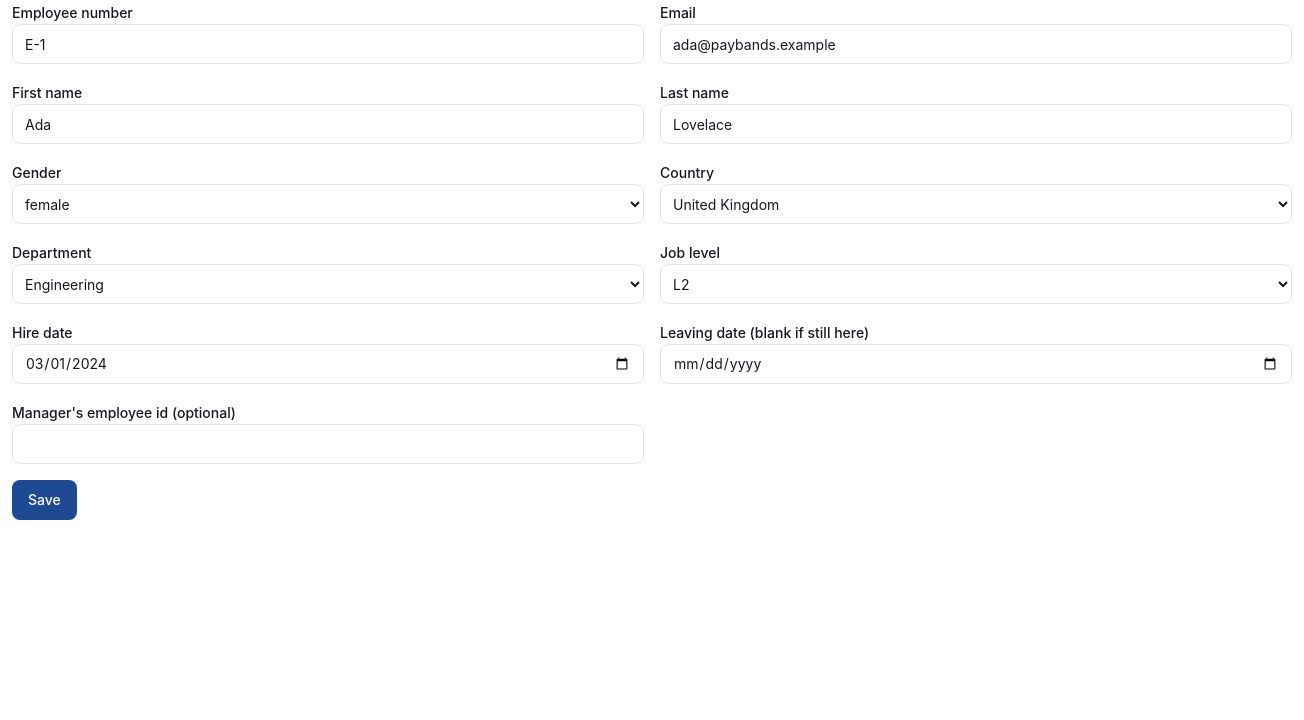
Test case: EmployeeForm › refuses an edit that changed nothing
Click the button "Save". click: x=44, y=500
box: [12,480,77,520]
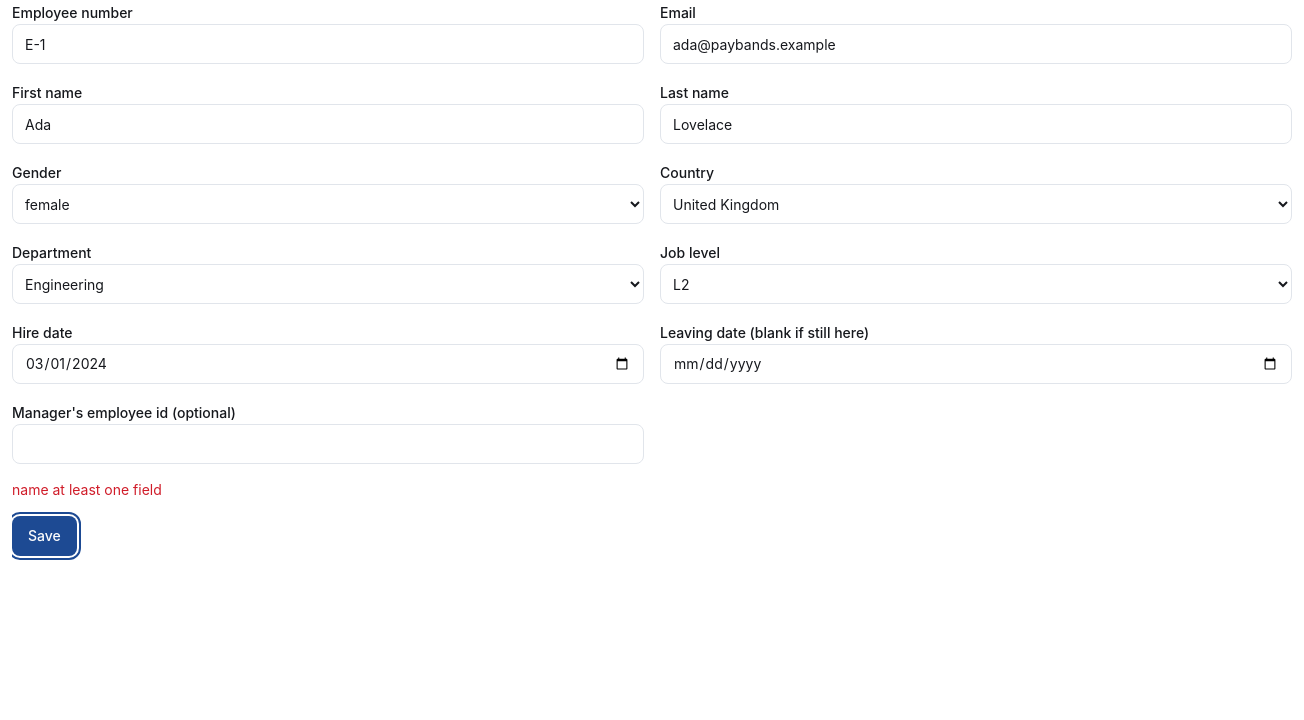
Expected: the message reads "name at least one field", [12,481,162,498]
